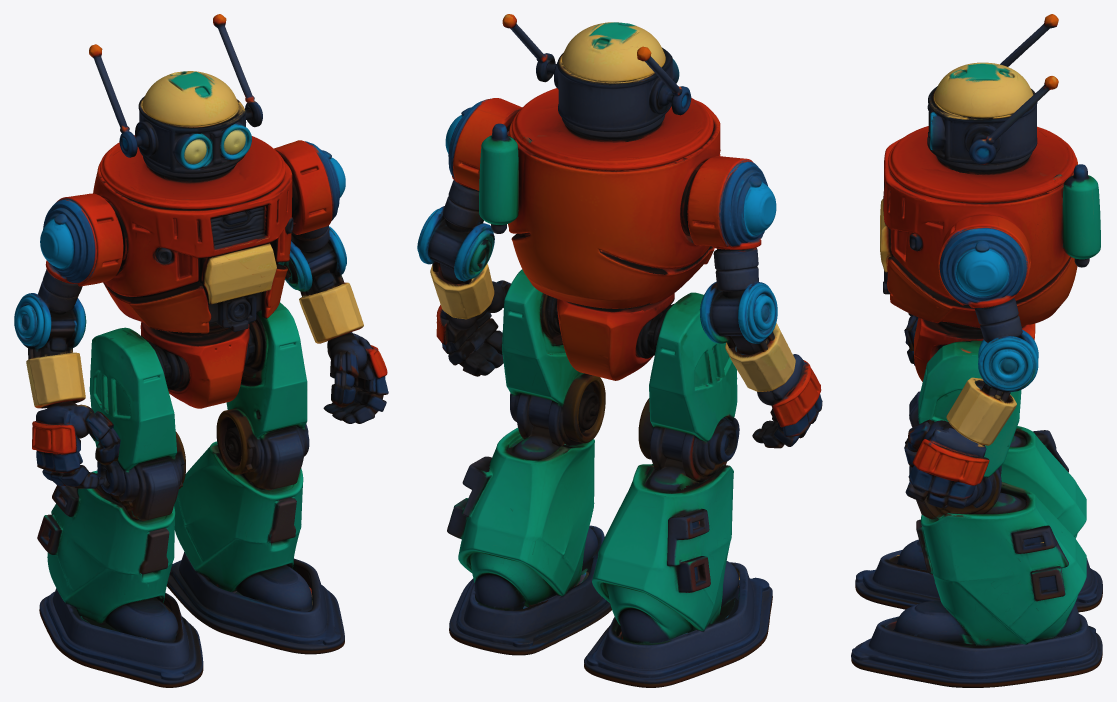
3 renders of one model, left to right at view 1: azimuth 30°, elevation 25°; view 2: azimuth 150°, elevation 25°; view 3: azimuth 270°, elevation 25°, orthographic. The views are drawn at different scales.
Visible parts, largest first — view 1: texture_pbr_v128; view 2: texture_pbr_v128; view 3: texture_pbr_v128.
Boxes of the visible parts, <box> form: texture_pbr_v128: <box>14,14,388,687</box>; texture_pbr_v128: <box>417,14,822,687</box>; texture_pbr_v128: <box>851,14,1102,687</box>.
Size of the model in its own units: 1.25 by 1.99 by 0.7861.
Materials: 1 (1 with a texture image).
